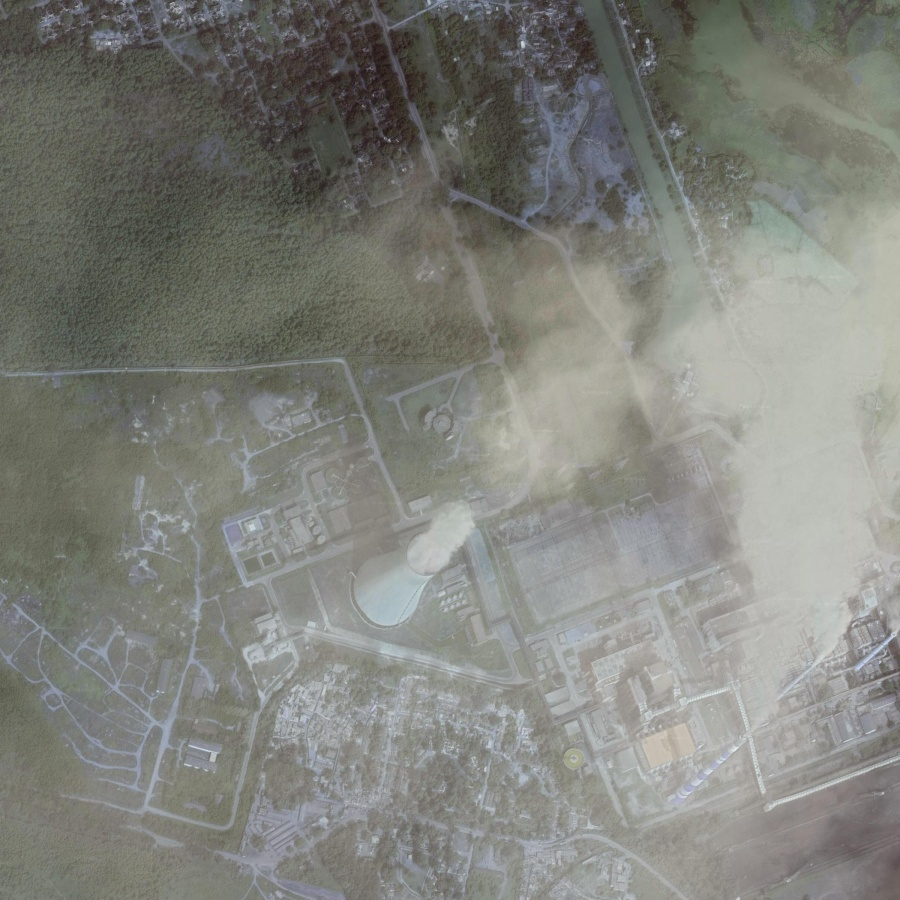PowerPlant: (343, 461, 498, 672)
